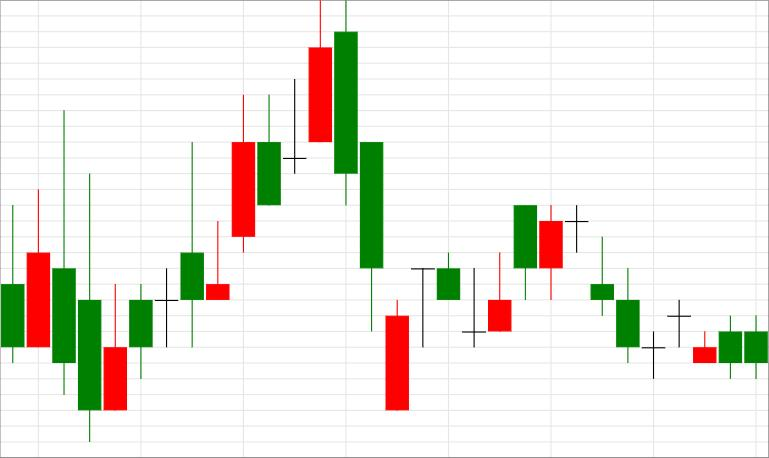bearish_engulfing_fall: (206, 0, 358, 300)
